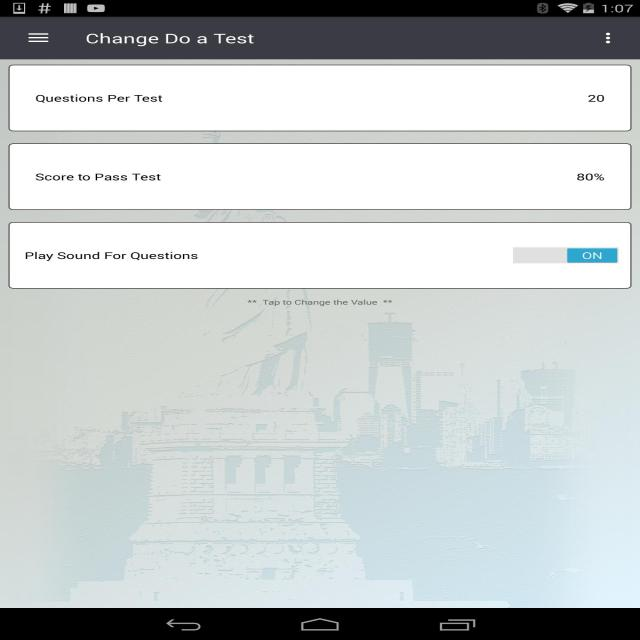button: (509, 244, 618, 267), (24, 30, 54, 48), (596, 29, 620, 49)
heading: (84, 30, 258, 49)
image: (2, 59, 636, 608)
text: (31, 168, 608, 186), (24, 248, 202, 264), (249, 294, 394, 308), (32, 91, 164, 106), (584, 89, 608, 107)
